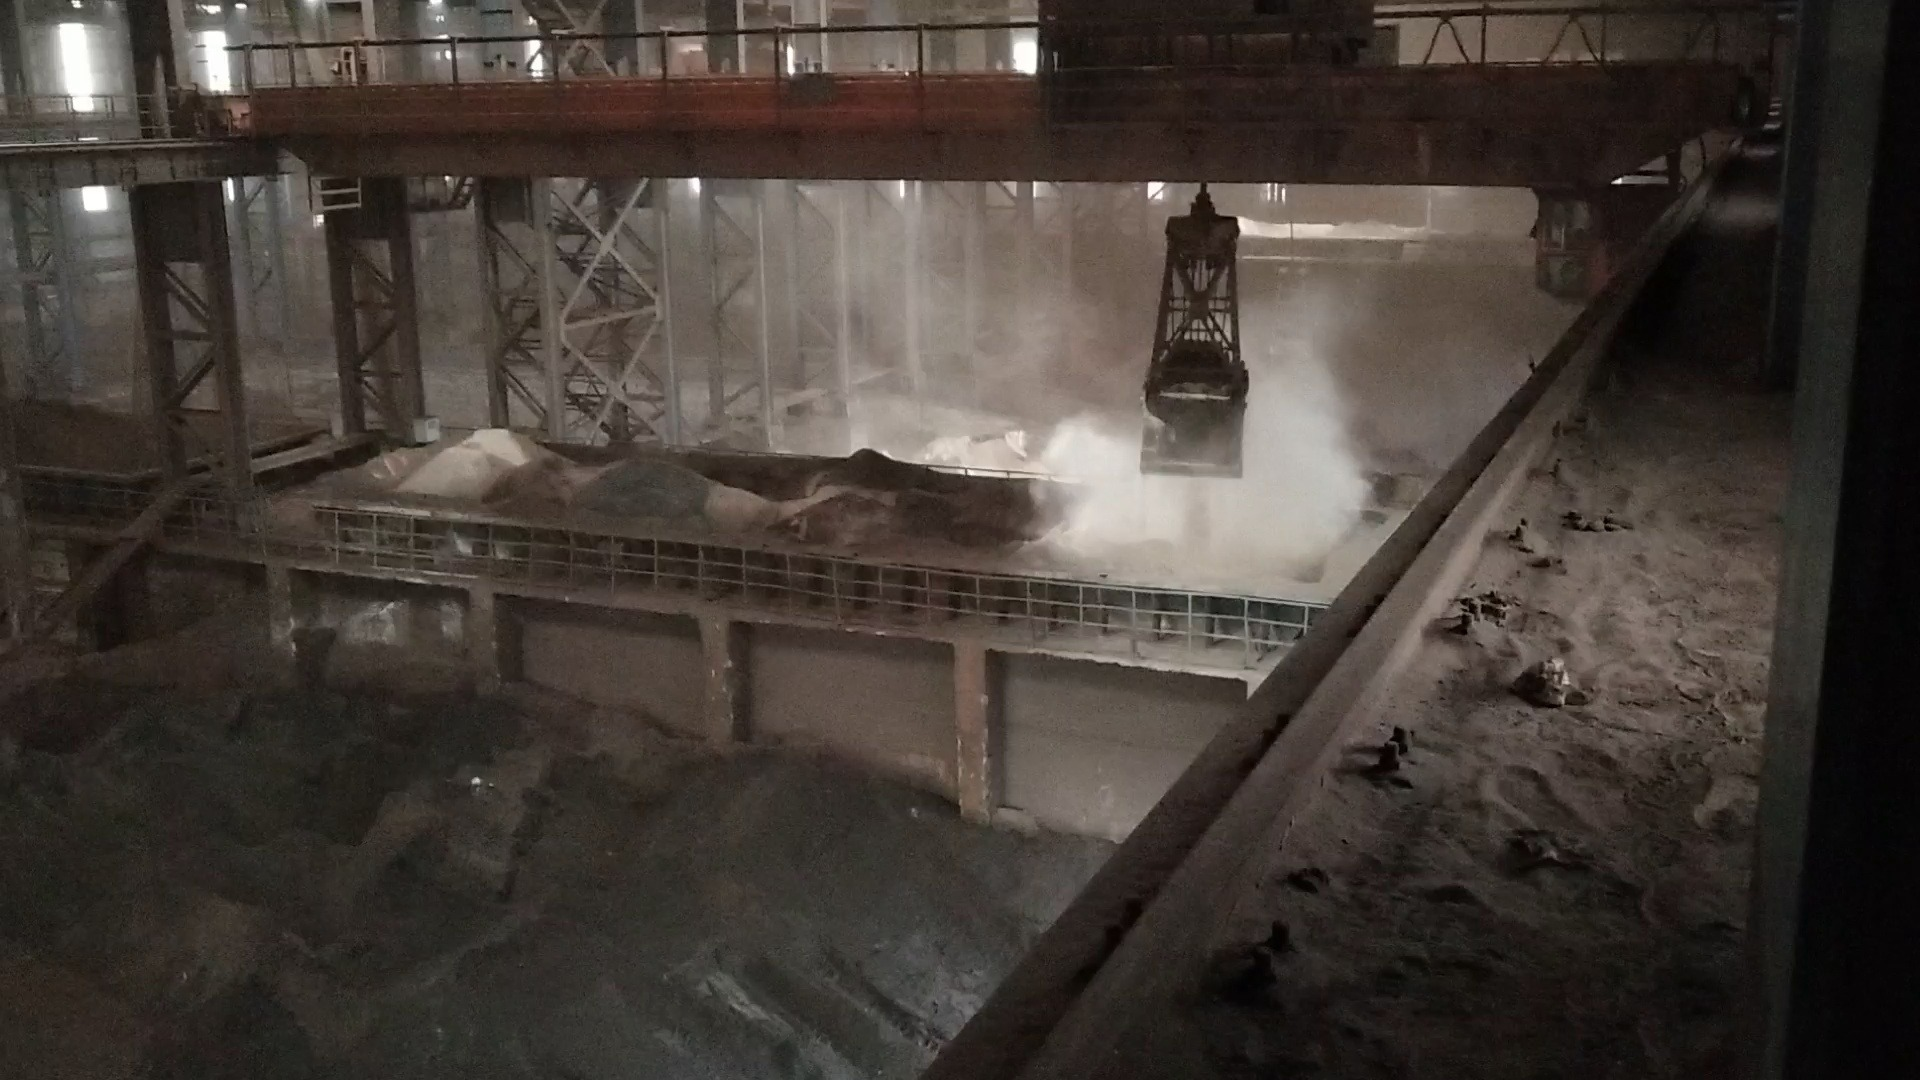dust: (736, 174, 1360, 592)
grab: (1133, 190, 1251, 485)
